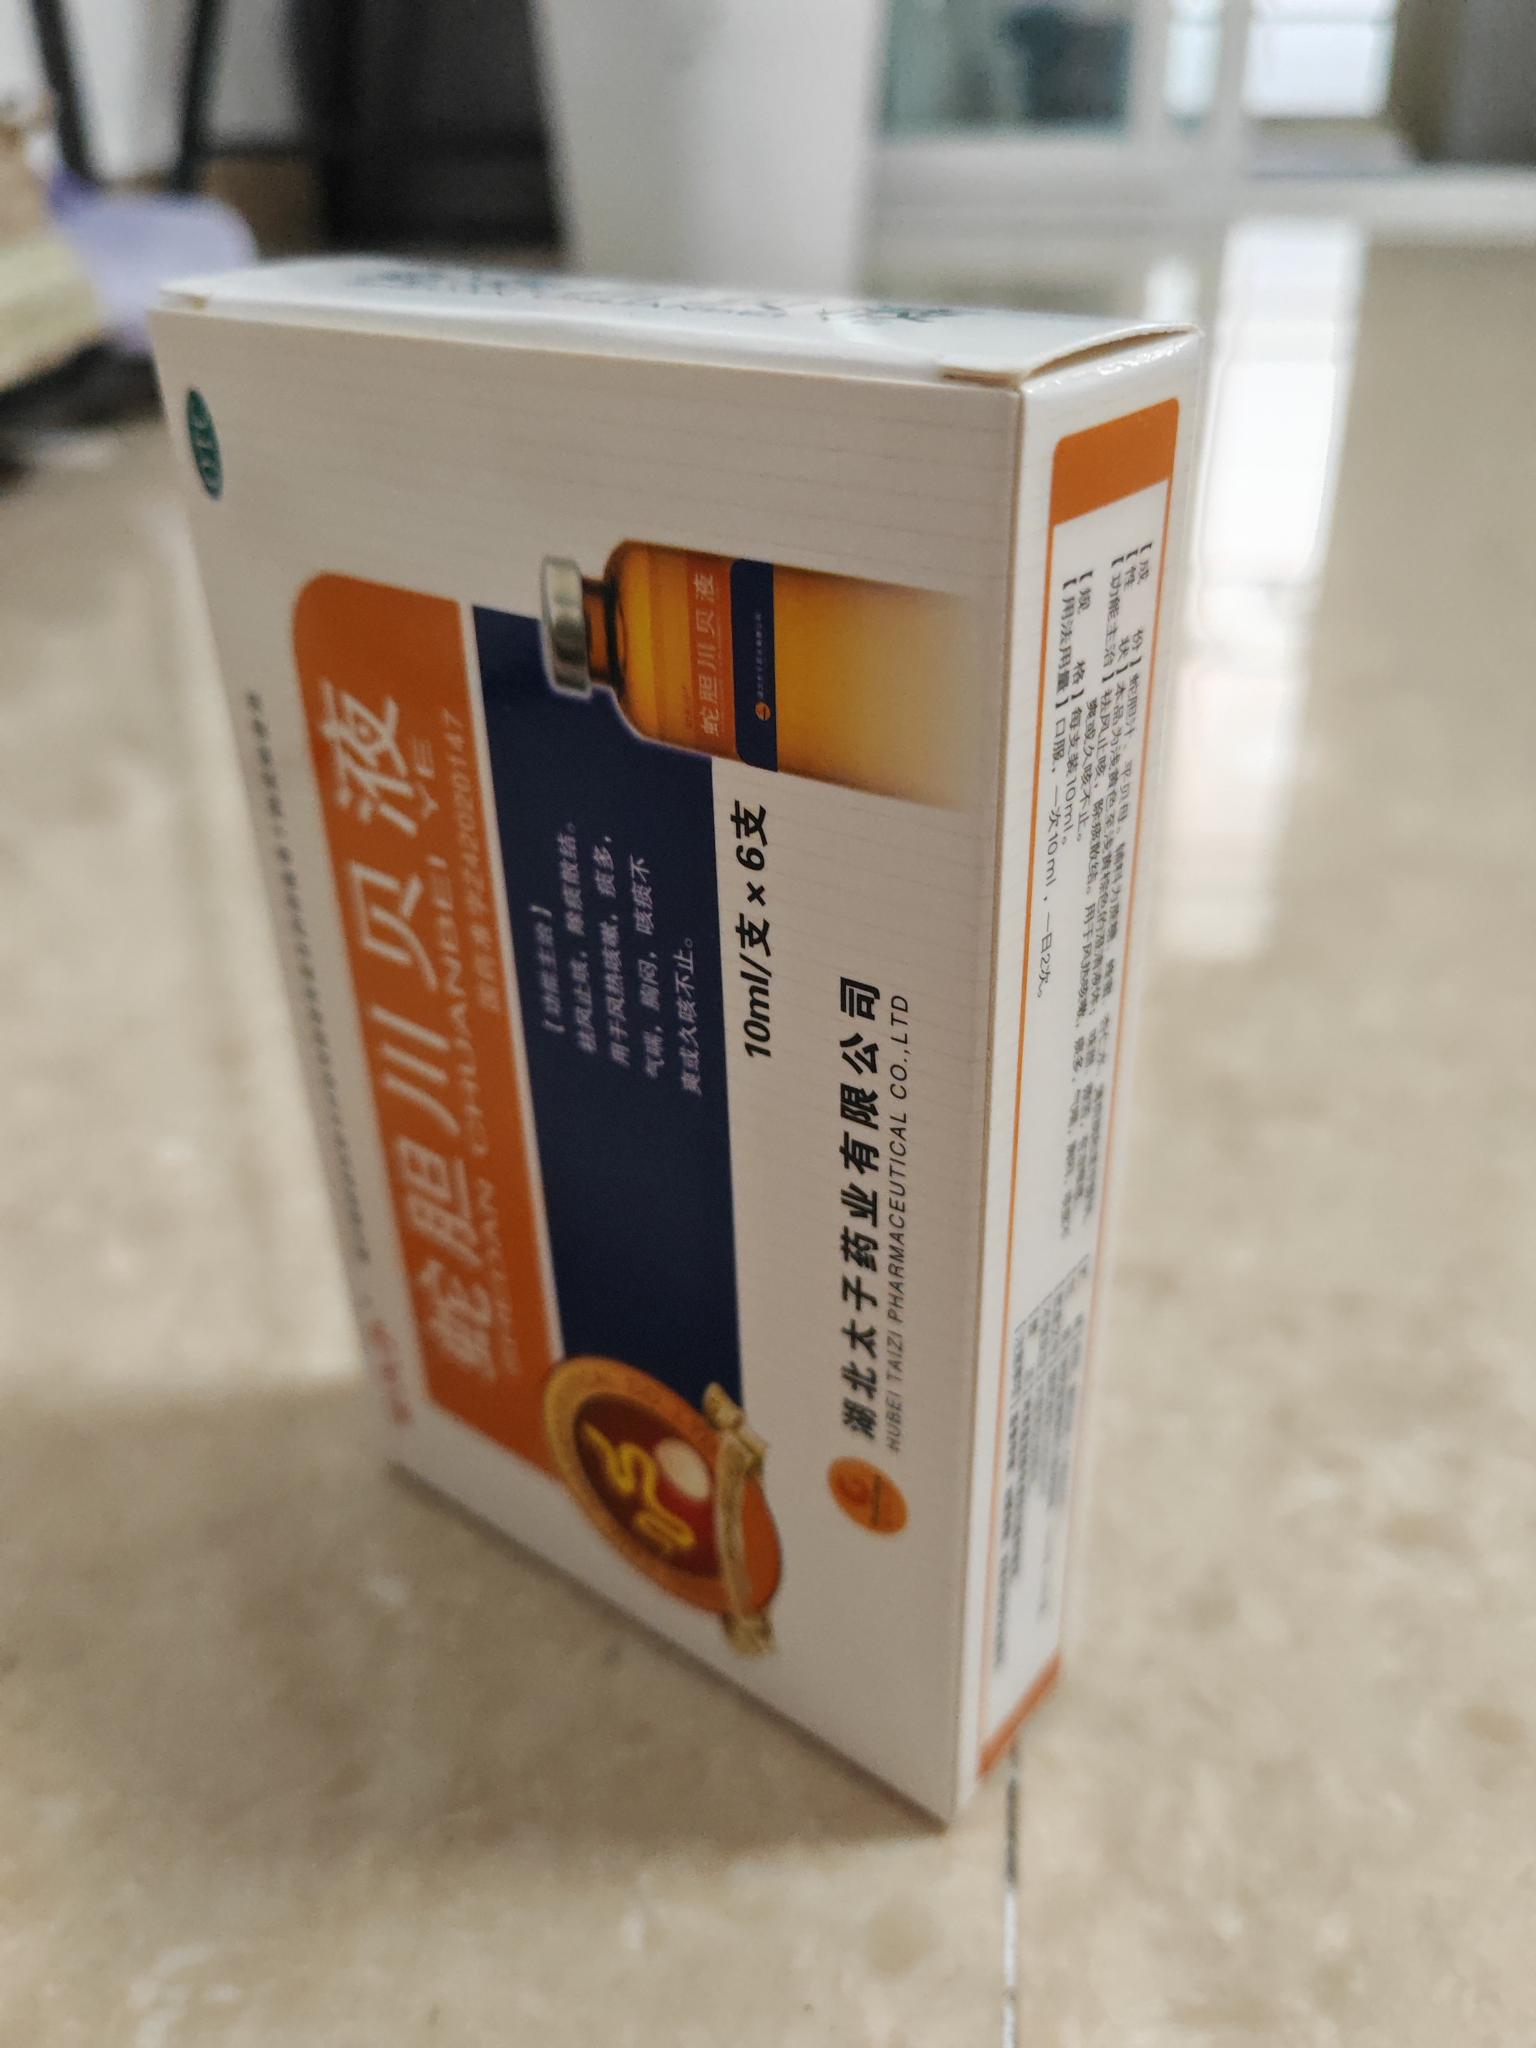Medicine5: (131, 239, 1221, 1840)
